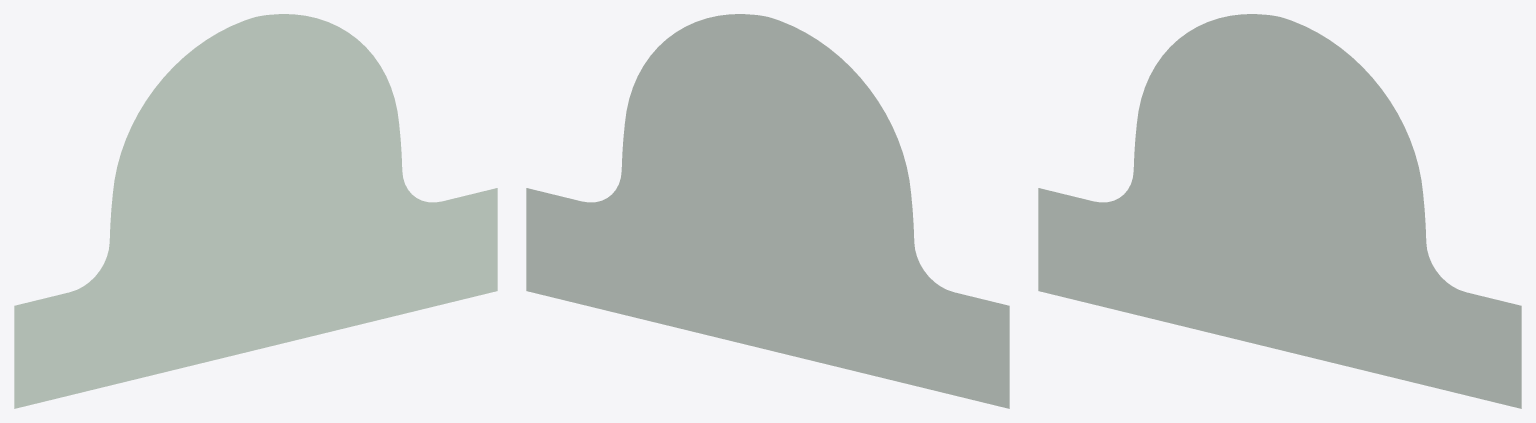
Rendered from Profile.obj.
The picture shows the model from 3 angles, left to right: view 1: azimuth 30°, elevation 25°; view 2: azimuth 150°, elevation 25°; view 3: azimuth 330°, elevation 25°; orthographic projection.
Parts seen in each view (by area): view 1: Profile\Surface; view 2: Profile\Surface; view 3: Profile\Surface.
Part boxes in pixels (x1=…): Profile\Surface: x1=14, y1=14, x2=497, y2=408; Profile\Surface: x1=526, y1=14, x2=1009, y2=408; Profile\Surface: x1=1038, y1=14, x2=1521, y2=408.
Size of the model in its own units: 11 by 7.24 by 0.
